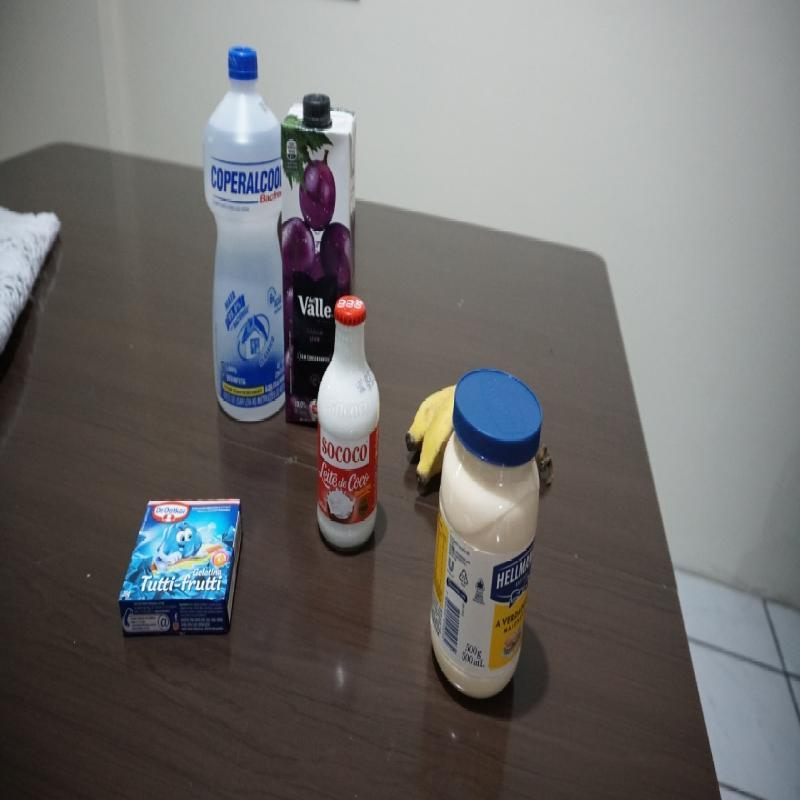Alcohol Bottle: (203, 43, 289, 424)
Banana: (404, 376, 456, 497)
Coconut Milk: (314, 296, 382, 554)
Gelatine: (118, 494, 246, 638)
Mayonnaise: (428, 366, 544, 704)
